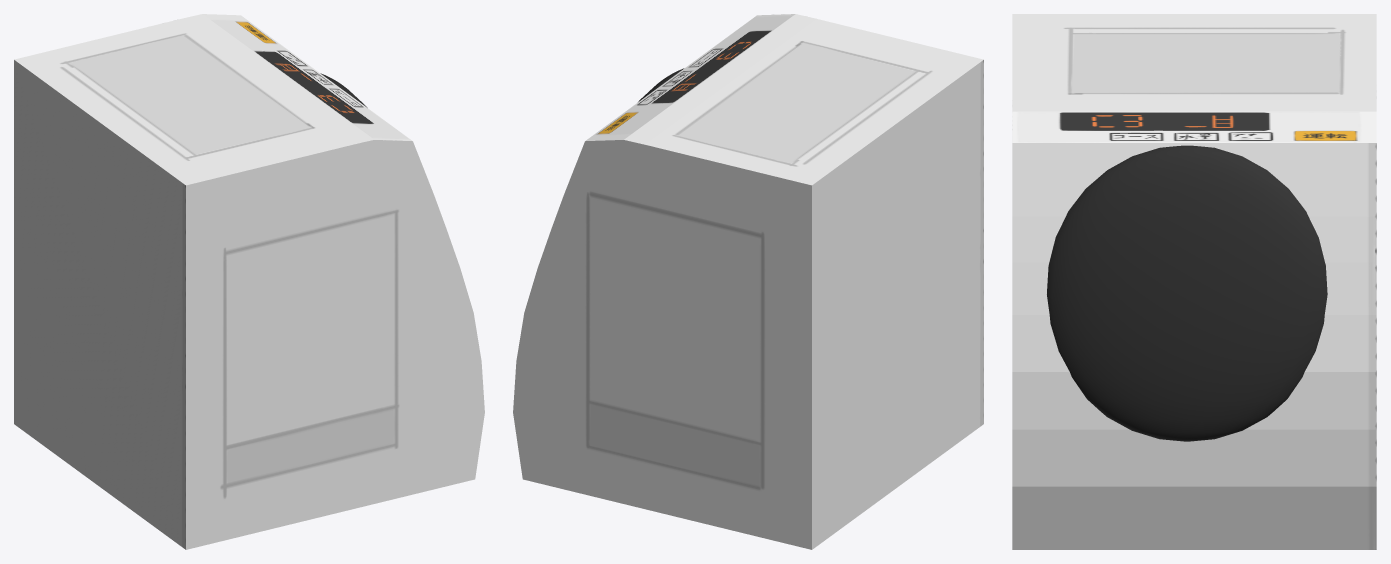
The model's file is sentakuki_hutabetu.fbx.
3 renders of one model, left to right at view 1: azimuth 30°, elevation 25°; view 2: azimuth 150°, elevation 25°; view 3: azimuth 270°, elevation 25°, orthographic. The views are drawn at different scales.
Parts seen in each view (by area): view 1: Cube; view 2: Cube; view 3: Cube, Sphere.
Part boxes in pixels (left/top/right/bottom): Cube: left=14, top=14, right=484, bottom=549; Cube: left=513, top=14, right=983, bottom=549; Cube: left=1012, top=14, right=1376, bottom=549; Sphere: left=1047, top=145, right=1327, bottom=441.
Bounding box in the file's own units: 176 × 200 × 171.
